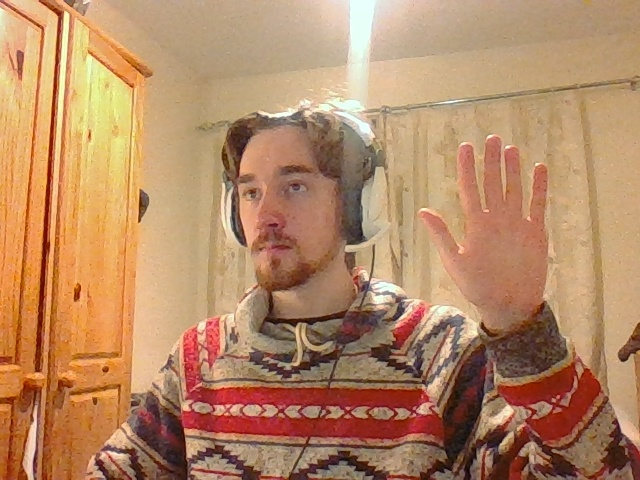hello: (417, 135, 548, 313)
